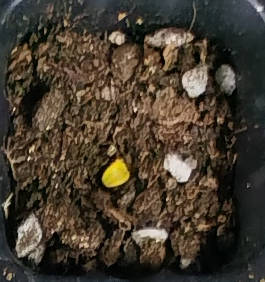chilli seed: (101, 158, 130, 188)
